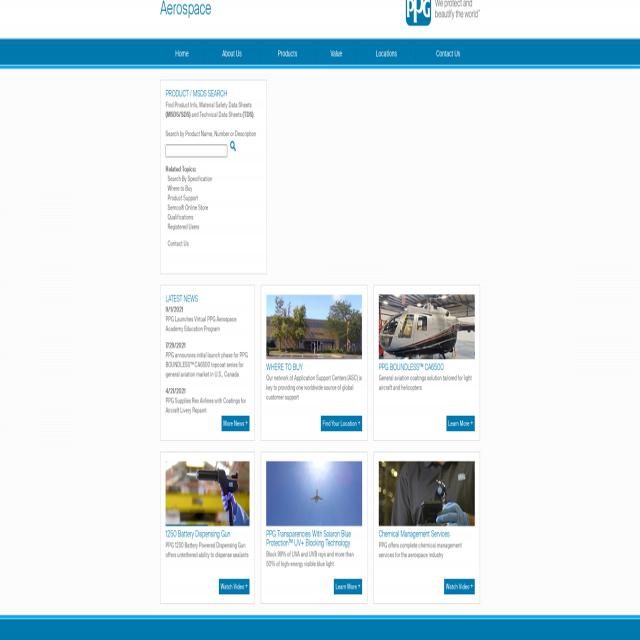button: (266, 294, 362, 360), (378, 294, 474, 360), (266, 461, 362, 526), (378, 461, 474, 526), (166, 461, 250, 526), (406, 0, 480, 26), (416, 47, 480, 60), (356, 47, 416, 60), (204, 47, 260, 60), (260, 47, 316, 60), (320, 416, 362, 431), (160, 47, 204, 60), (315, 47, 357, 60), (219, 579, 249, 594), (444, 579, 474, 594), (446, 416, 475, 431), (222, 416, 250, 431), (334, 579, 362, 594)
field: (165, 145, 227, 157), (228, 138, 238, 154)
